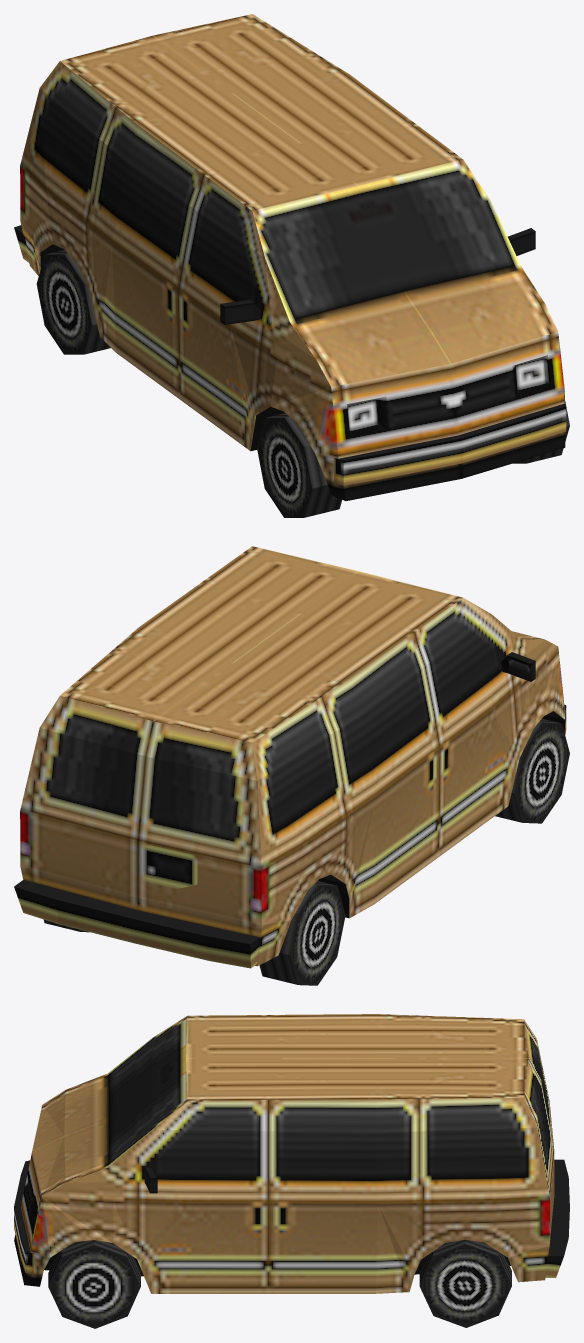
Rendered from Auto5amarillo.fbx.
3 renders of one model, top to bottom at view 1: azimuth 30°, elevation 25°; view 2: azimuth 150°, elevation 25°; view 3: azimuth 270°, elevation 25°, orthographic. The views are drawn at different scales.
Visible parts, largest first — view 1: Car4; view 2: Car4; view 3: Car4.
Boxes of the visible parts, x1,y1,x2,y2 form: Car4: [14, 14, 569, 517]; Car4: [14, 546, 569, 985]; Car4: [14, 1014, 569, 1328].
Bounding box in the file's own units: 340 × 274 × 630.
Materials: 1 (1 with a texture image).
